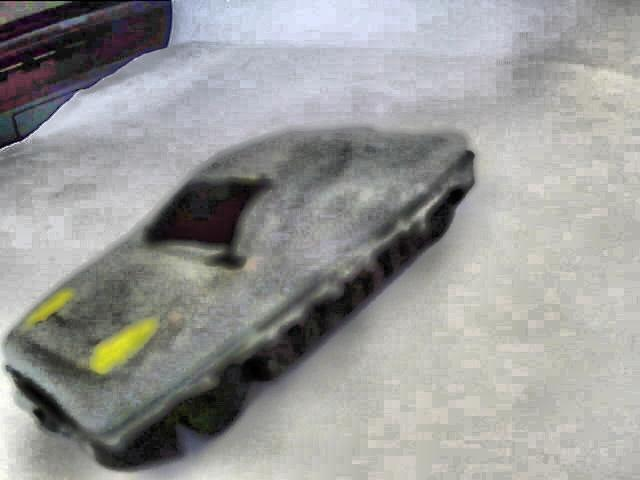normal_car: (2, 124, 475, 472)
